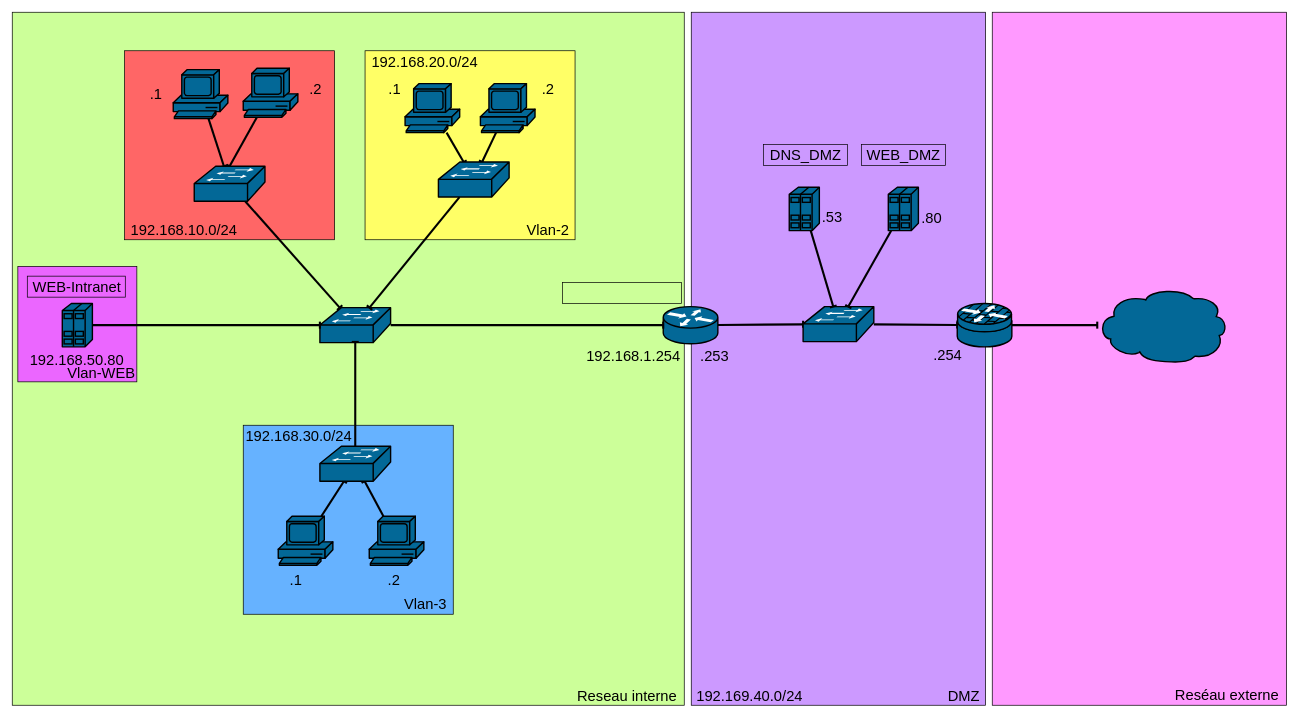
This 1299x719 diagram has some shape labels left out. The shapes that lost their labels are listed below. From the top down, each one's centre as x and y in pixels, then its label:
the point at 621,292: Routeur + DHCP
the point at 1162,325: Inetrnet
